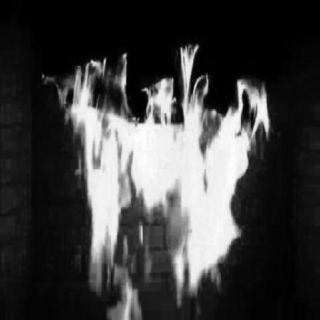Fire: (44, 49, 282, 318)
